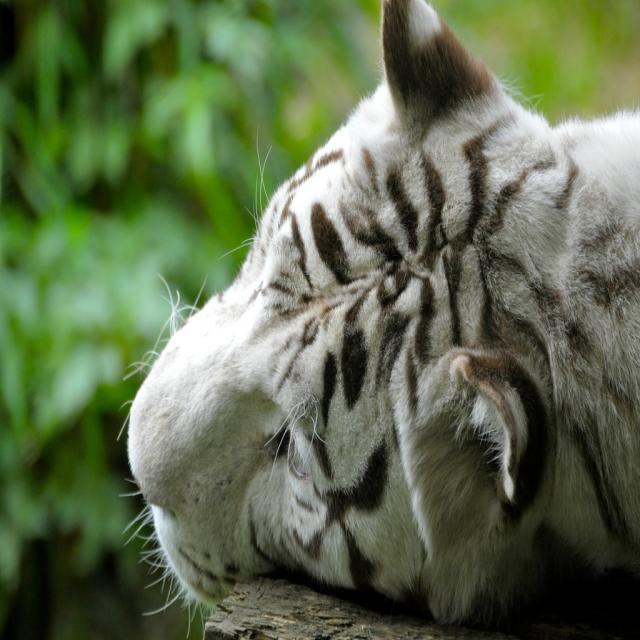Tiger: (116, 0, 639, 639)
